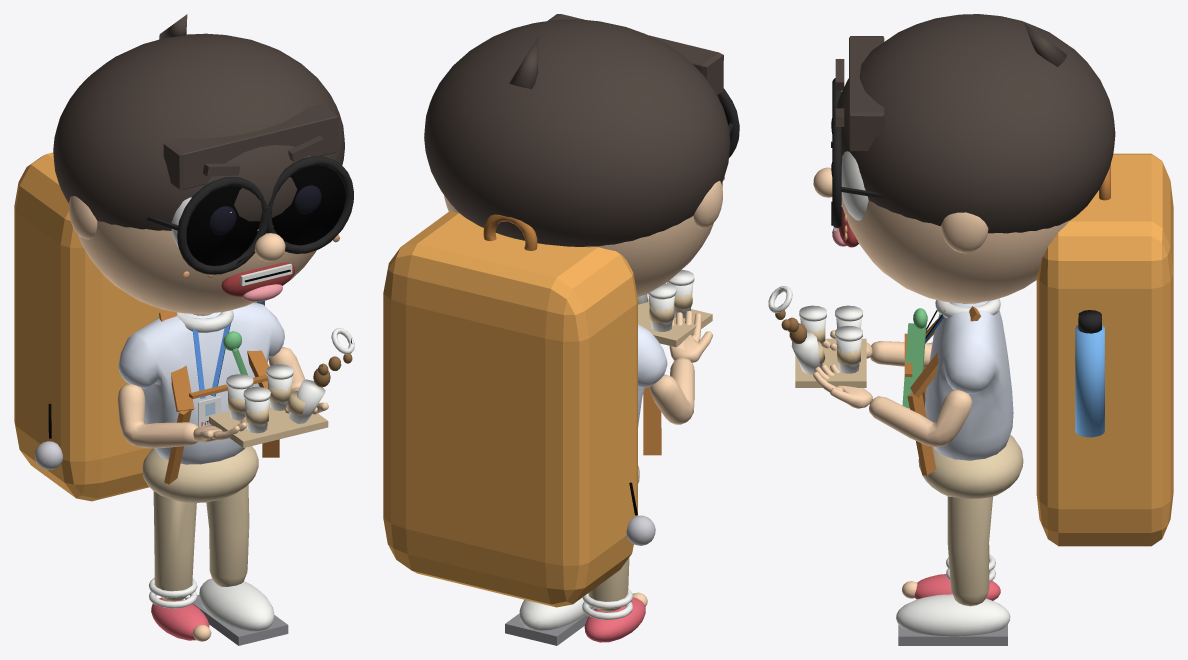
The model's file is Intern.fbx.
3 renders of one model, left to right at view 1: azimuth 30°, elevation 25°; view 2: azimuth 150°, elevation 25°; view 3: azimuth 270°, elevation 25°, orthographic. The views are drawn at different scales.
Visible parts, largest first — view 1: Intern.001; view 2: Intern.001; view 3: Intern.001.
Part boxes in pixels (x1,y1,x2,y2): Intern.001: (14,14,354,645); Intern.001: (383,14,739,645); Intern.001: (768,14,1173,645).
Size of the model in its own units: 104 by 225 by 136.
Materials: 1 (1 with a texture image).
